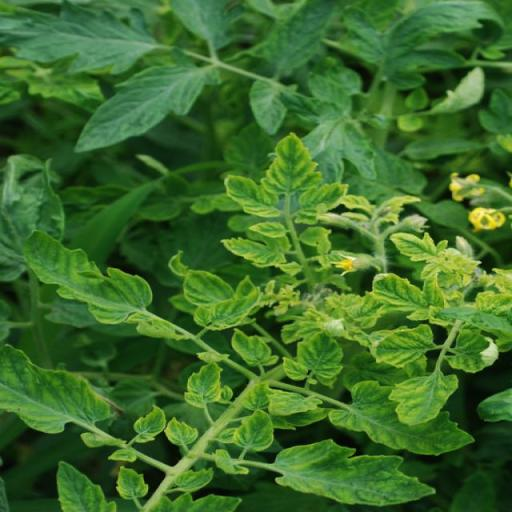Healthy: (78, 50, 212, 154)
Yellow Leaf Curl Virus: (24, 226, 152, 328), (272, 438, 442, 508), (327, 381, 477, 455), (2, 346, 114, 436), (258, 134, 326, 200), (280, 329, 344, 390), (389, 374, 461, 428), (371, 270, 444, 322), (368, 324, 438, 370), (192, 290, 262, 336), (223, 173, 286, 218), (446, 330, 498, 374), (221, 238, 288, 270), (386, 230, 450, 262), (231, 327, 279, 368), (182, 361, 222, 408), (238, 410, 278, 452), (115, 464, 152, 509), (268, 389, 322, 419), (297, 182, 351, 212), (132, 404, 167, 443), (164, 416, 200, 448), (176, 468, 214, 492)
